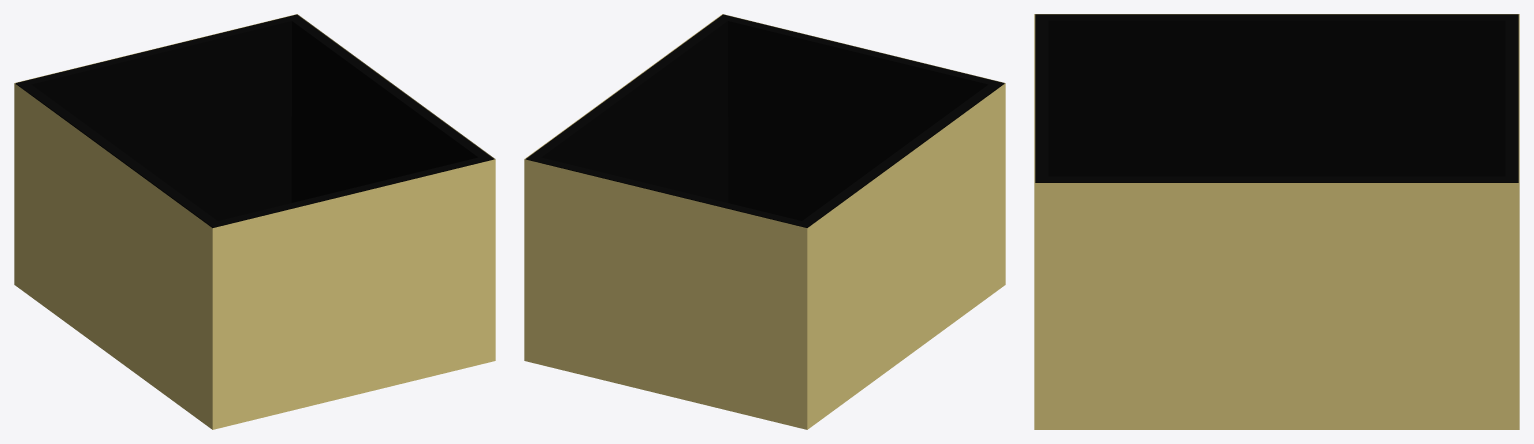
The picture shows the model from 3 angles, left to right: view 1: azimuth 30°, elevation 25°; view 2: azimuth 150°, elevation 25°; view 3: azimuth 270°, elevation 25°; orthographic projection. The views are drawn at different scales.
Parts seen in each view (by area): view 1: Cubo_1; view 2: Cubo_1; view 3: Cubo_1.
Part boxes in pixels (x1=…): Cubo_1: x1=14, y1=14, x2=495, y2=429; Cubo_1: x1=524, y1=14, x2=1005, y2=429; Cubo_1: x1=1034, y1=14, x2=1519, y2=429.
Bounding box in the file's own units: 205 × 140 × 249.
